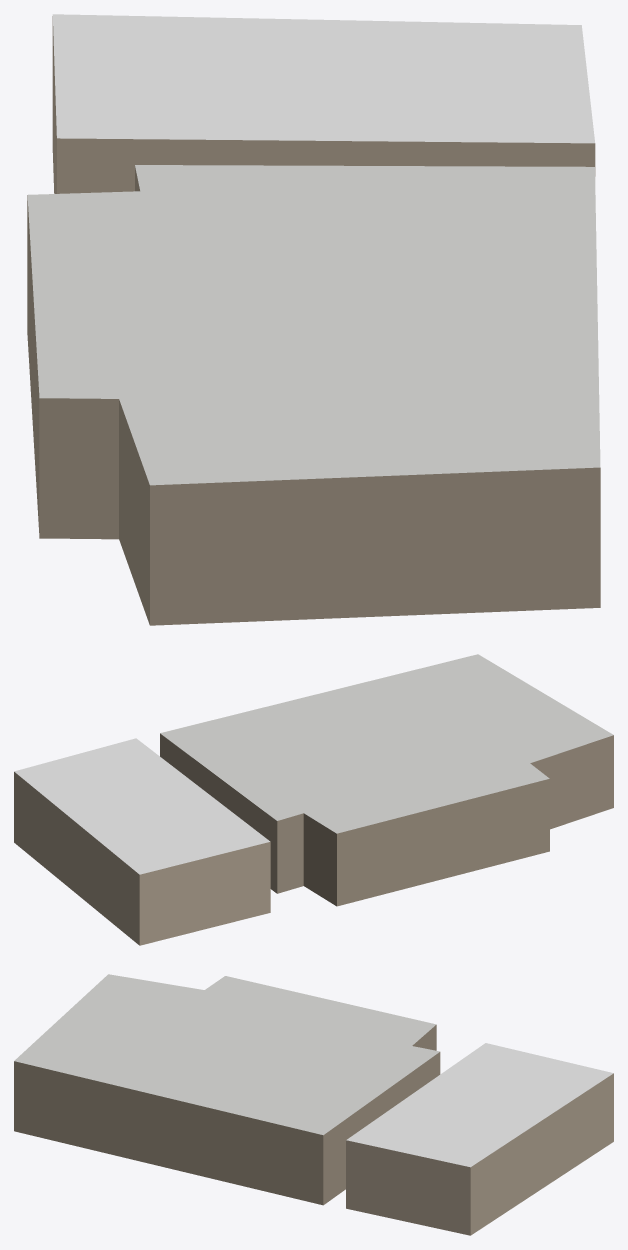
3 renders of one model, top to bottom at view 1: azimuth 30°, elevation 25°; view 2: azimuth 150°, elevation 25°; view 3: azimuth 270°, elevation 25°, orthographic. The views are drawn at different scales.
Visible parts, largest first — view 1: tuile; view 2: tuile; view 3: tuile.
Boxes of the visible parts, left/top/right/bottom form: tuile: left=27, top=14, right=600, bottom=625; tuile: left=14, top=654, right=613, bottom=945; tuile: left=14, top=974, right=613, bottom=1235.
Bounding box in the file's own units: 24.3 × 4.14 × 31.8.
